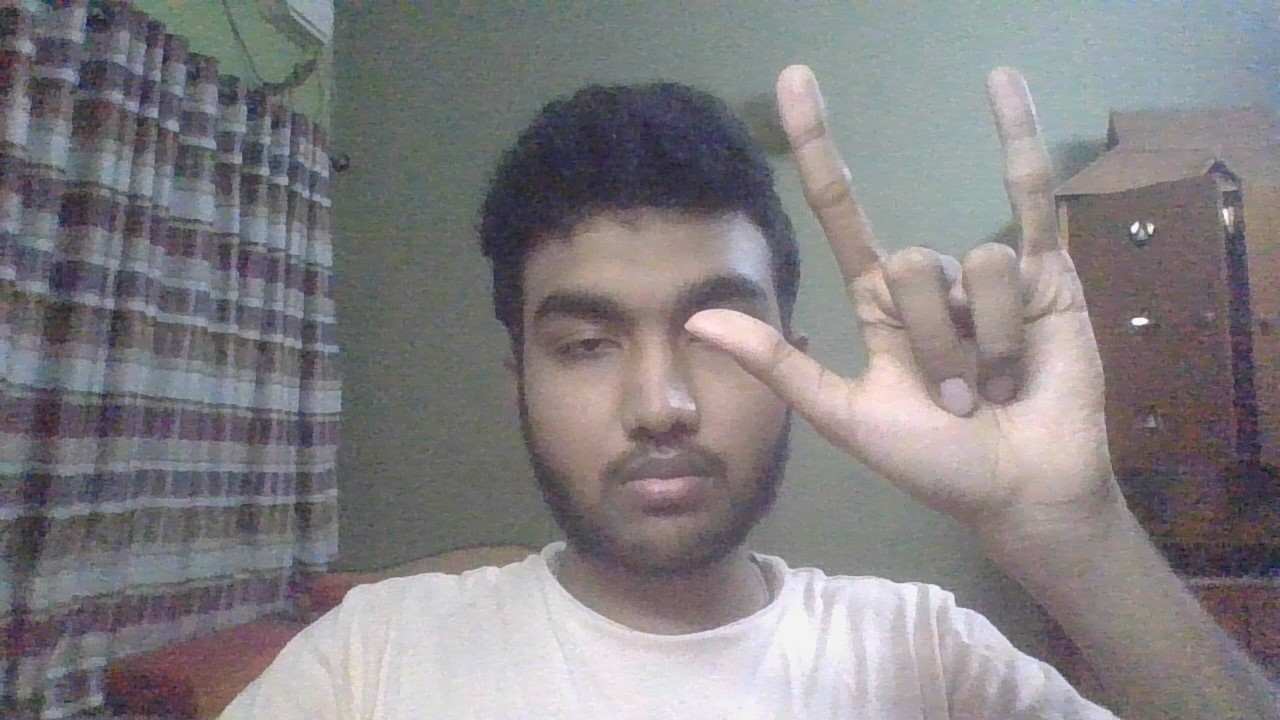I Love You: (674, 34, 1141, 544)
